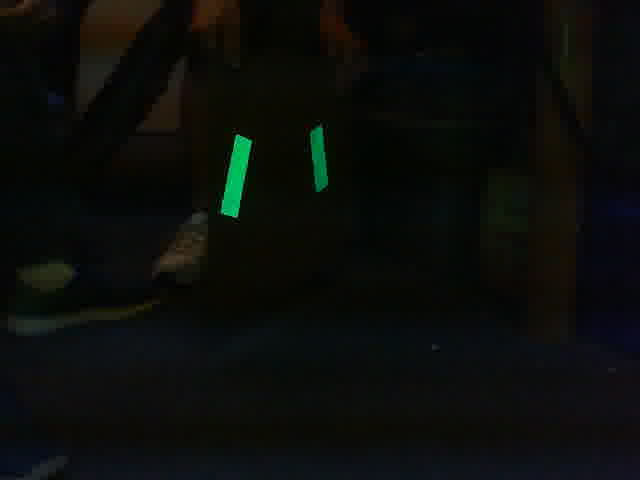target: (218, 125, 330, 220)
